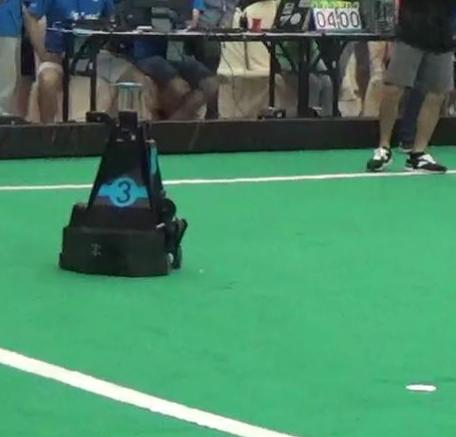robot: (52, 78, 190, 279)
